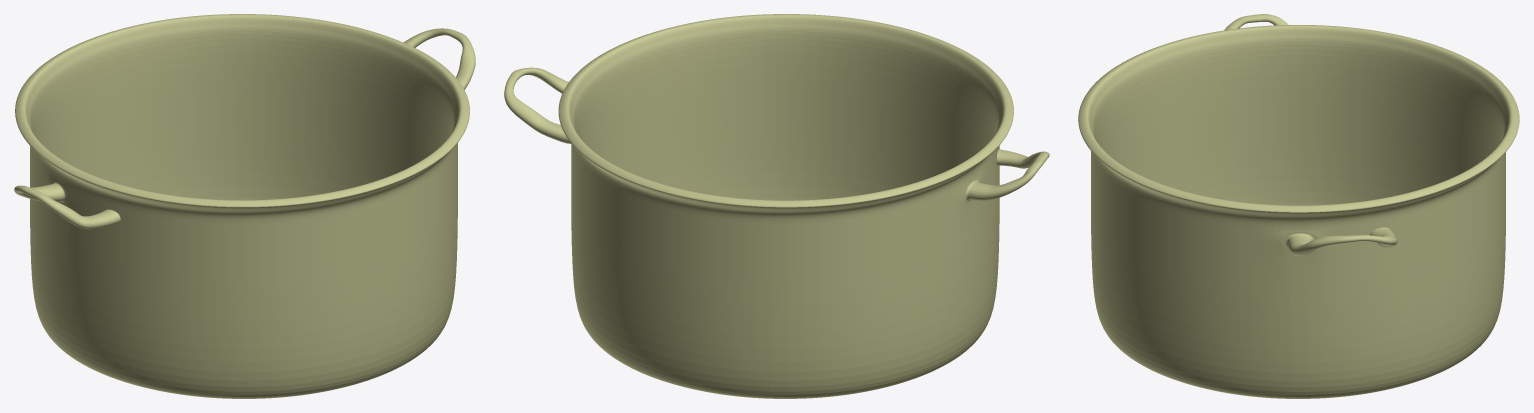
Rendered from Pot_Visual.fbx.
3 renders of one model, left to right at view 1: azimuth 30°, elevation 25°; view 2: azimuth 150°, elevation 25°; view 3: azimuth 270°, elevation 25°, orthographic. The views are drawn at different scales.
Visible parts, largest first — view 1: Pot; view 2: Pot; view 3: Pot.
Part boxes in pixels (x1,y1,x2,y2): Pot: [14, 14, 475, 398]; Pot: [504, 14, 1049, 398]; Pot: [1078, 14, 1519, 398].
Bounding box in the file's own units: 78.17 × 32.88 × 63.35.
